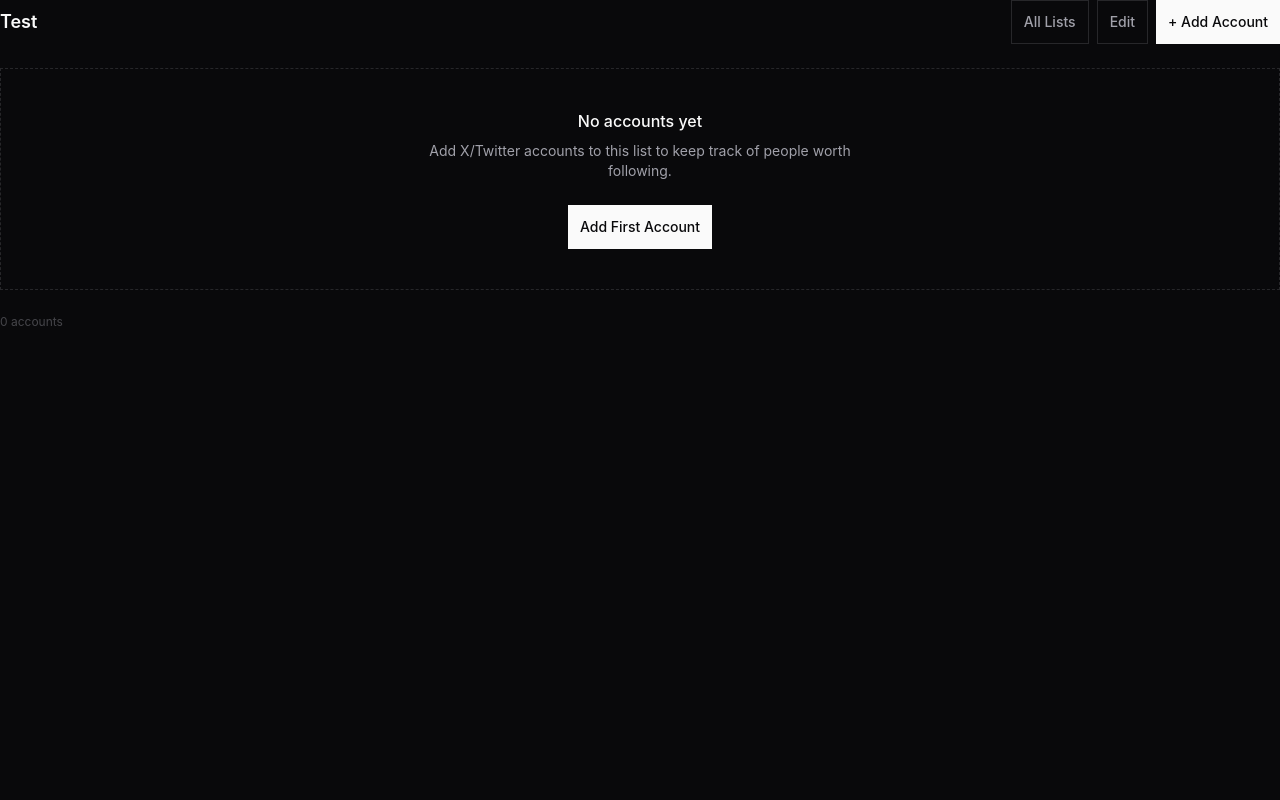
it: ListsPage › opens add account modal from detail view
The image size is (1280, 800).
Click the button "+ Add Account": point(1218, 22) [1156, 0, 1279, 44]
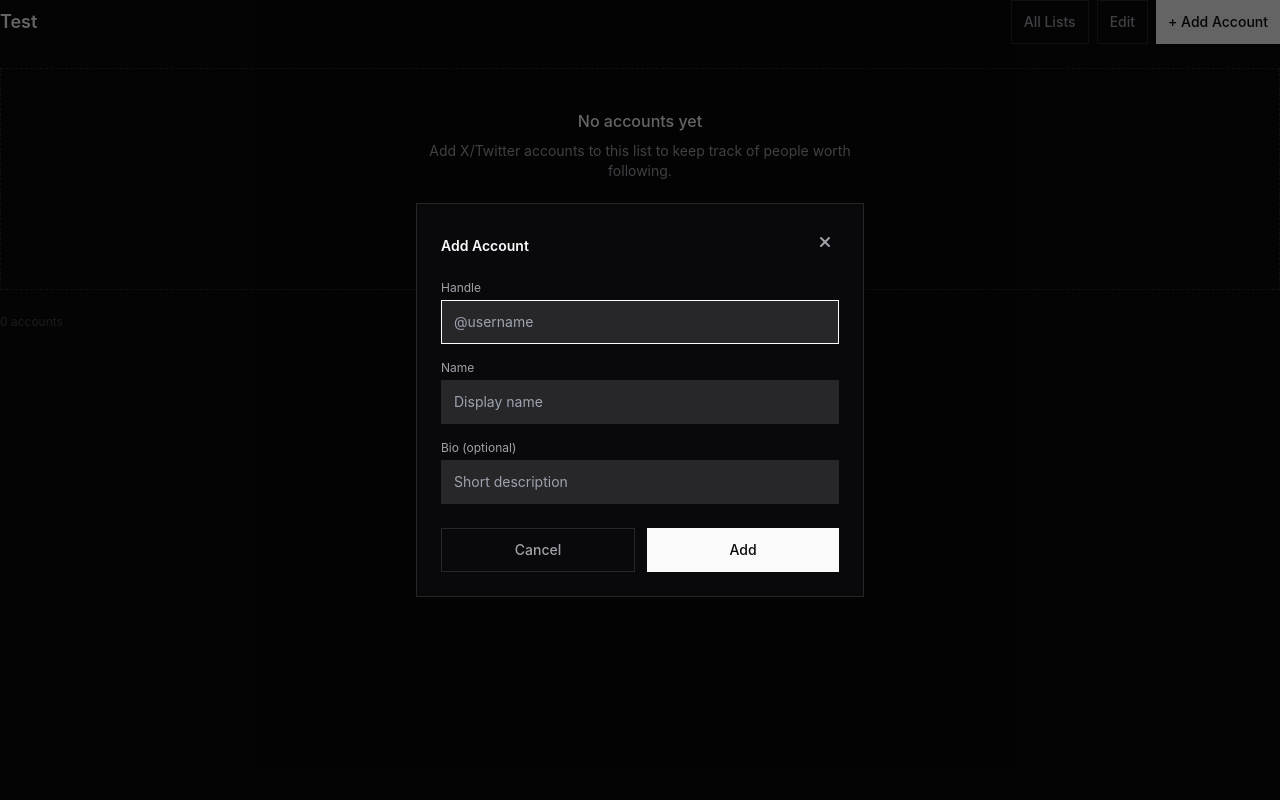
expect the heading "Add Account" is shown: met, box [441, 236, 529, 256]
expect the field with test id "account-handle-input" is shown: met, box [441, 300, 839, 344]
expect the field with test id "account-name-input" is shown: met, box [441, 380, 839, 424]
